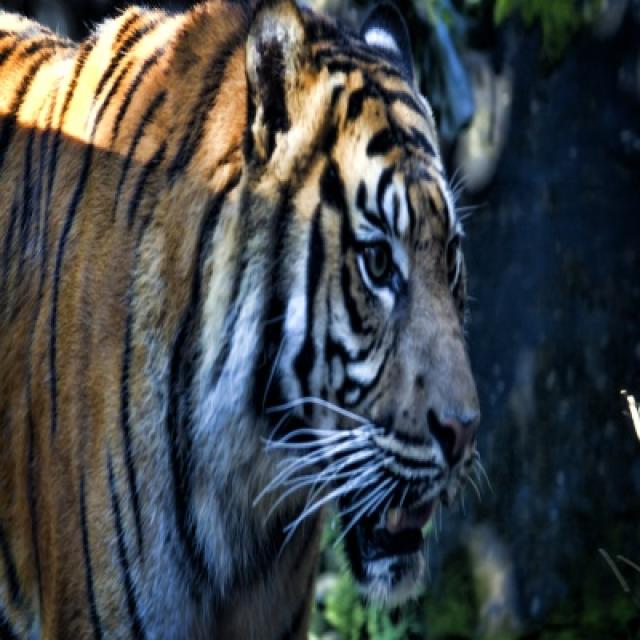Tiger: (0, 0, 478, 638)
